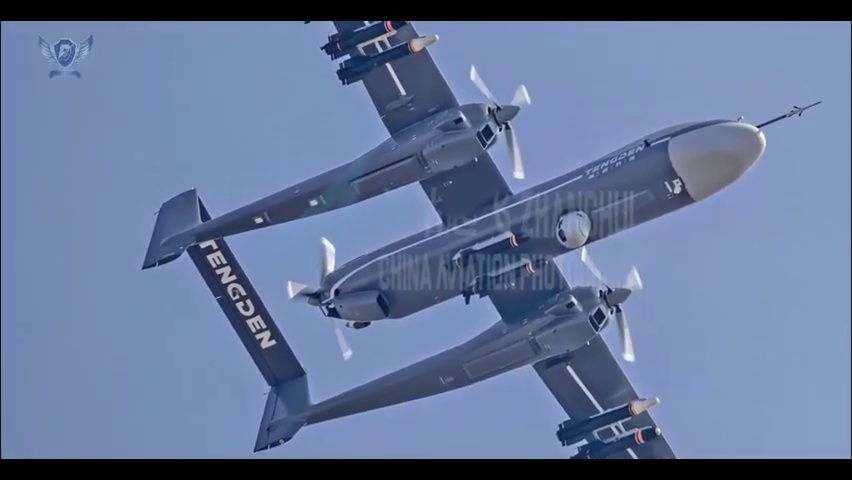military drone: (142, 21, 821, 459)
